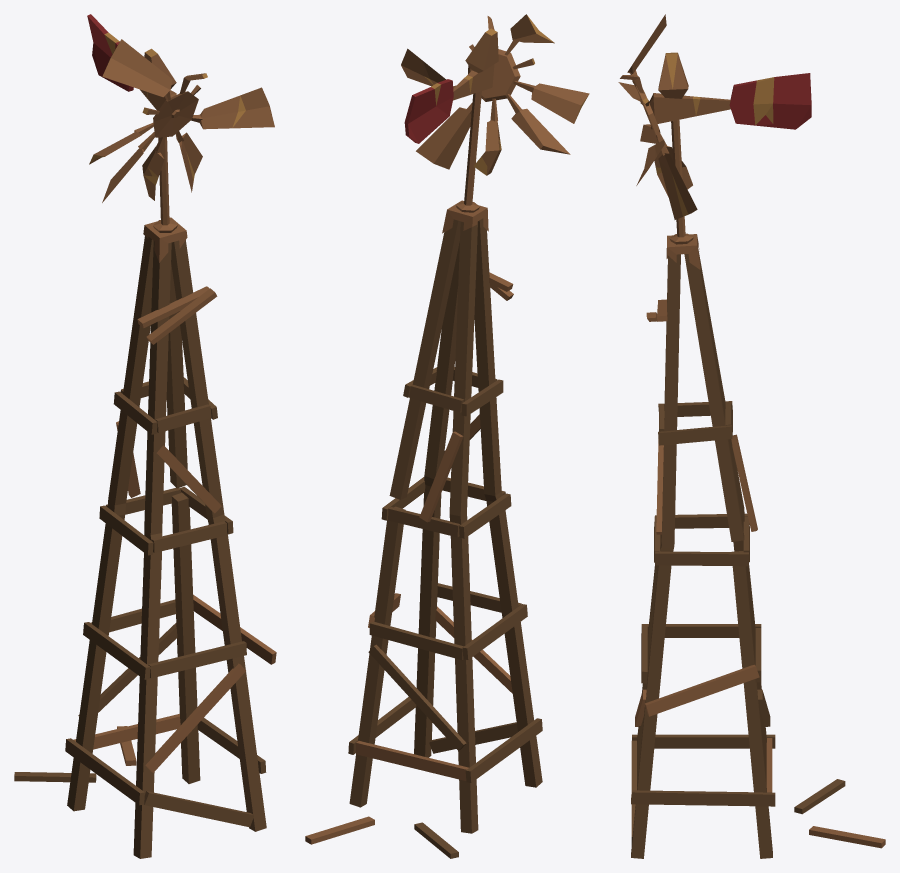
File: apocalypse_windmill-western-apocalypse-a.fbx
3 renders of one model, left to right at view 1: azimuth 30°, elevation 25°; view 2: azimuth 150°, elevation 25°; view 3: azimuth 270°, elevation 25°, orthographic. The views are drawn at different scales.
Visible parts, largest first — view 1: apocalypse_windmill_western_apocalypse_a; view 2: apocalypse_windmill_western_apocalypse_a; view 3: apocalypse_windmill_western_apocalypse_a.
Boxes of the visible parts, bbox=[...] form: apocalypse_windmill_western_apocalypse_a: bbox=[14, 14, 276, 858]; apocalypse_windmill_western_apocalypse_a: bbox=[305, 14, 589, 858]; apocalypse_windmill_western_apocalypse_a: bbox=[618, 14, 885, 858].
Bounding box in the file's own units: 48.55 × 200 × 61.75.
